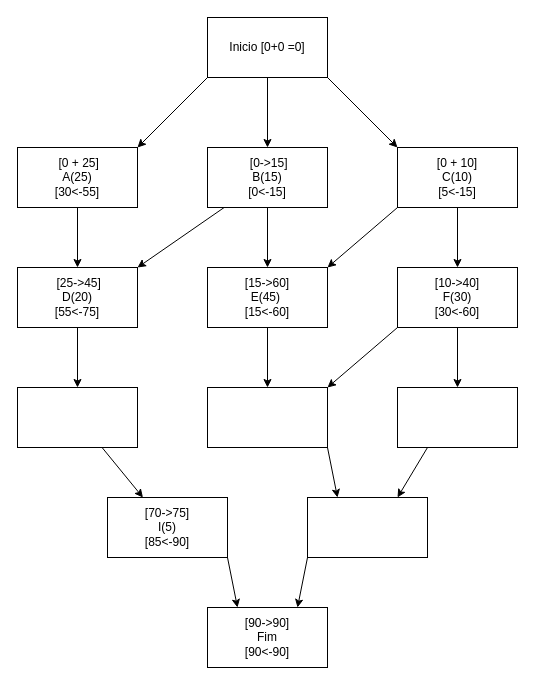
Image size: 535x685. Some labels were removed from this diagram. The box of each missing label's shape, as (x1, y1, x2, y2) in pixels:
[40->55] K(15) [65<-80]: (396, 386, 518, 448)
[60->70] G(10) [75<-85]: (16, 386, 138, 448)
[60->80] H(20) [60<-80]: (206, 386, 328, 448)
[80->90] J(10) [80<-90]: (306, 496, 428, 558)
